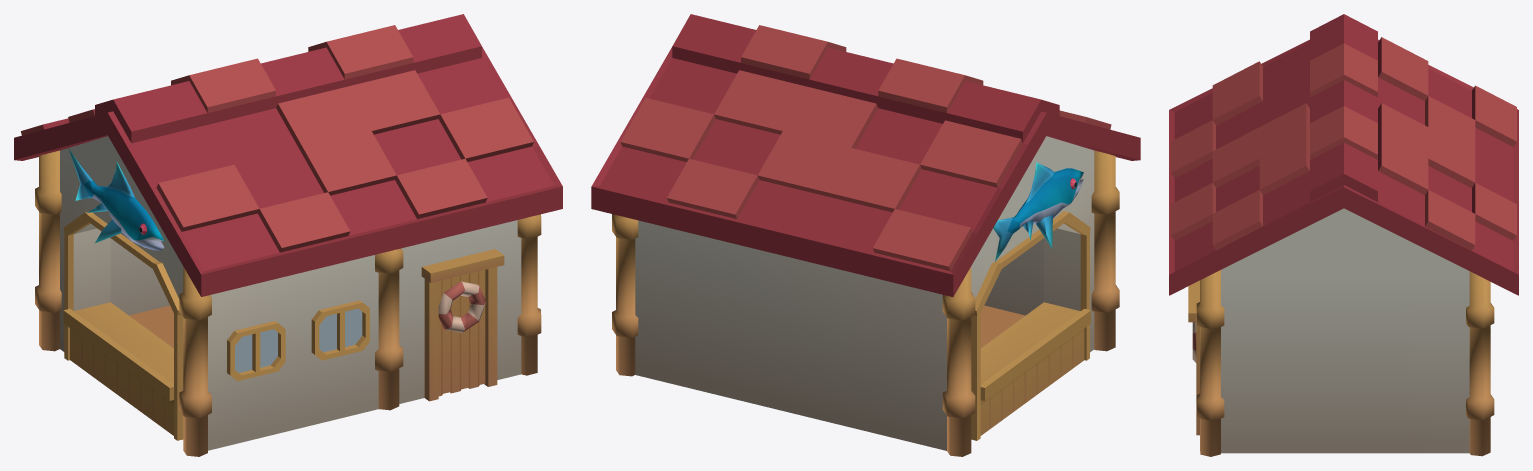
The model's file is FishingCabin.fbx.
The picture shows the model from 3 angles, left to right: view 1: azimuth 30°, elevation 25°; view 2: azimuth 150°, elevation 25°; view 3: azimuth 270°, elevation 25°; orthographic projection. The views are drawn at different scales.
Visible parts, largest first — view 1: Plane.043; view 2: Plane.043; view 3: Plane.043.
Boxes of the visible parts, x1=… form: Plane.043: x1=14, y1=14, x2=562, y2=456; Plane.043: x1=591, y1=14, x2=1140, y2=456; Plane.043: x1=1169, y1=14, x2=1518, y2=456.
Size of the model in its own units: 1010 by 800 by 882.
